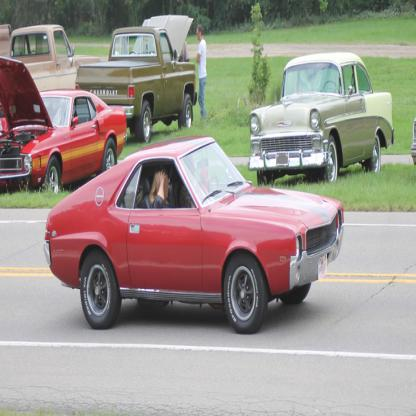Car: (44, 136, 344, 329), (248, 51, 394, 188), (0, 55, 128, 196), (0, 22, 100, 92), (411, 116, 415, 166)
